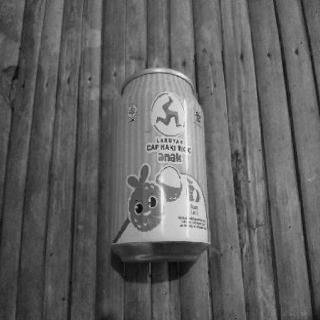alumunium_can: (108, 64, 210, 268)
